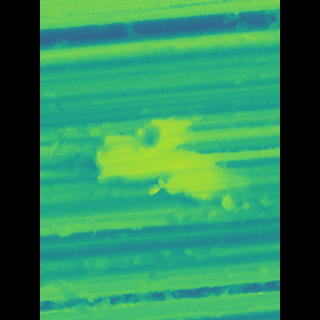Loch: (103, 109, 240, 231)
